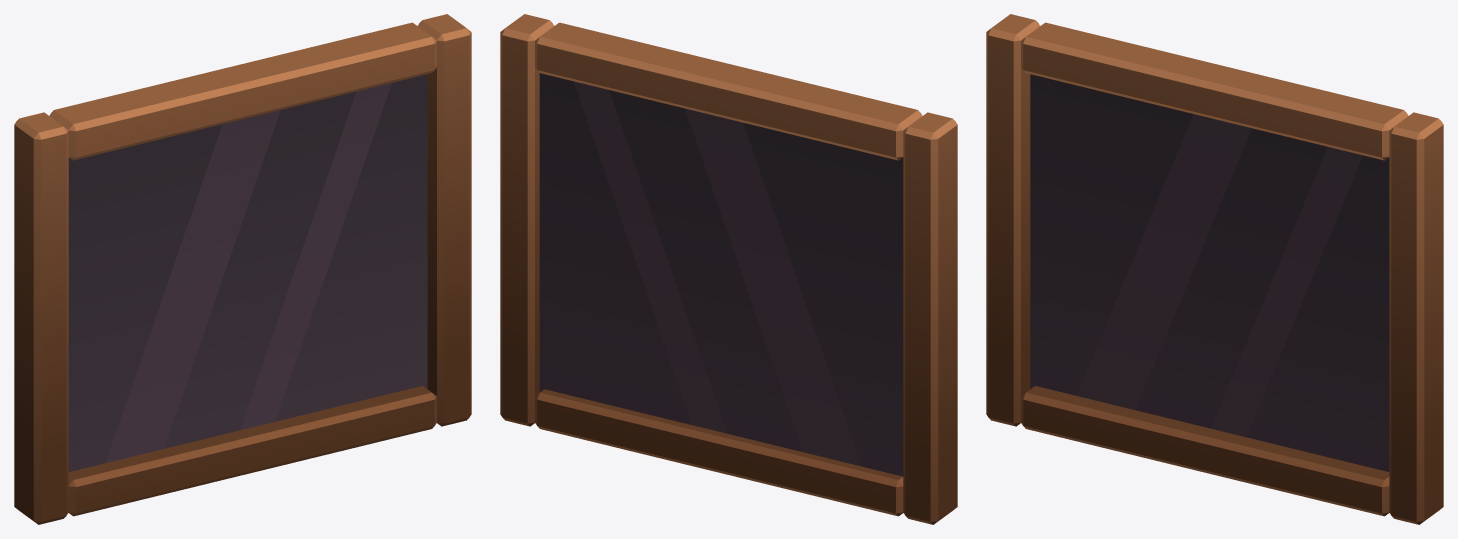
Rendered from sp_build_prop_window_04.fbx.
3 renders of one model, left to right at view 1: azimuth 30°, elevation 25°; view 2: azimuth 150°, elevation 25°; view 3: azimuth 330°, elevation 25°, orthographic.
Parts seen in each view (by area): view 1: build_prop_window_04; view 2: build_prop_window_04; view 3: build_prop_window_04.
Boxes of the visible parts, left/top/right/bottom form: build_prop_window_04: left=14, top=14, right=471, bottom=524; build_prop_window_04: left=500, top=14, right=957, bottom=524; build_prop_window_04: left=986, top=14, right=1443, bottom=524.
Bounding box in the file's own units: 187 × 160 × 18.52.
